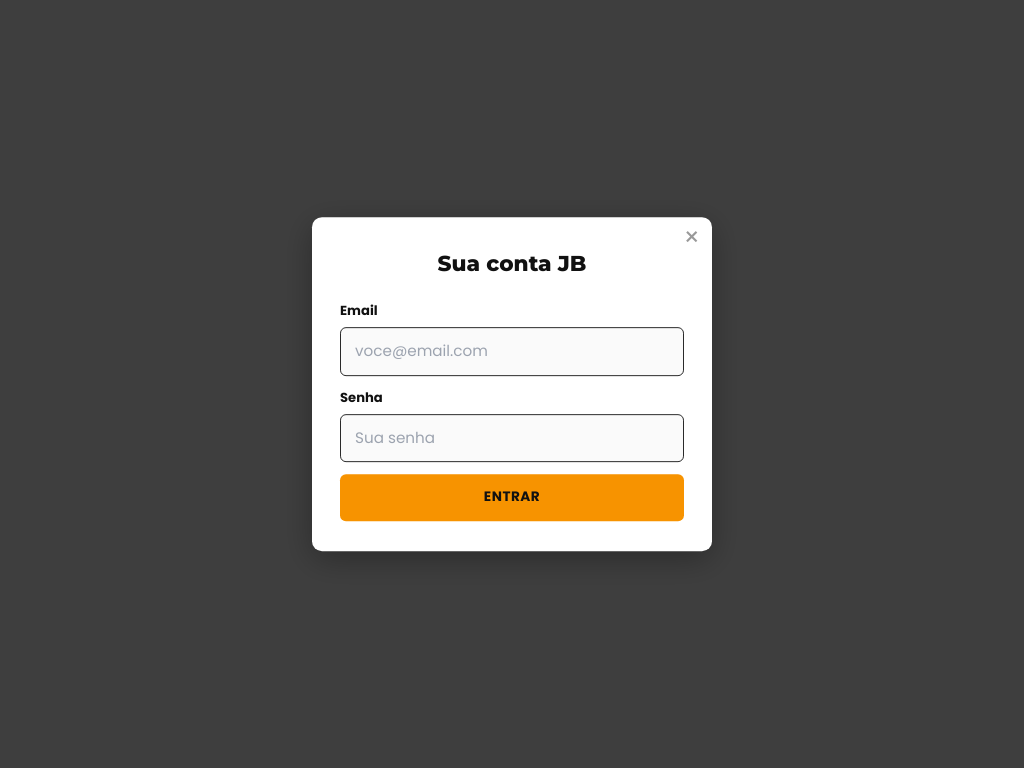
Test: Tela: Login do cliente (Supabase) › é apenas login: mostra erro do Supabase com senha errada
In the field labelled "Email": (512, 352) [340,327,684,376], type "a@b.com"
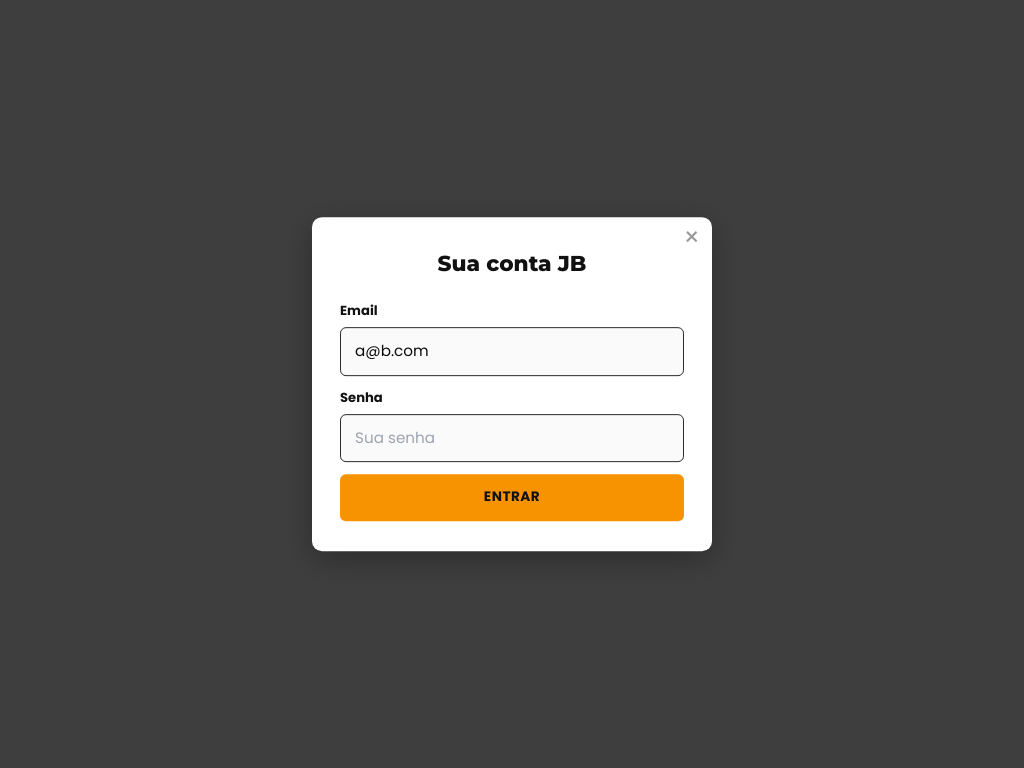
In the password field labelled "Senha": (512, 438) [340,414,684,462], type "errada"
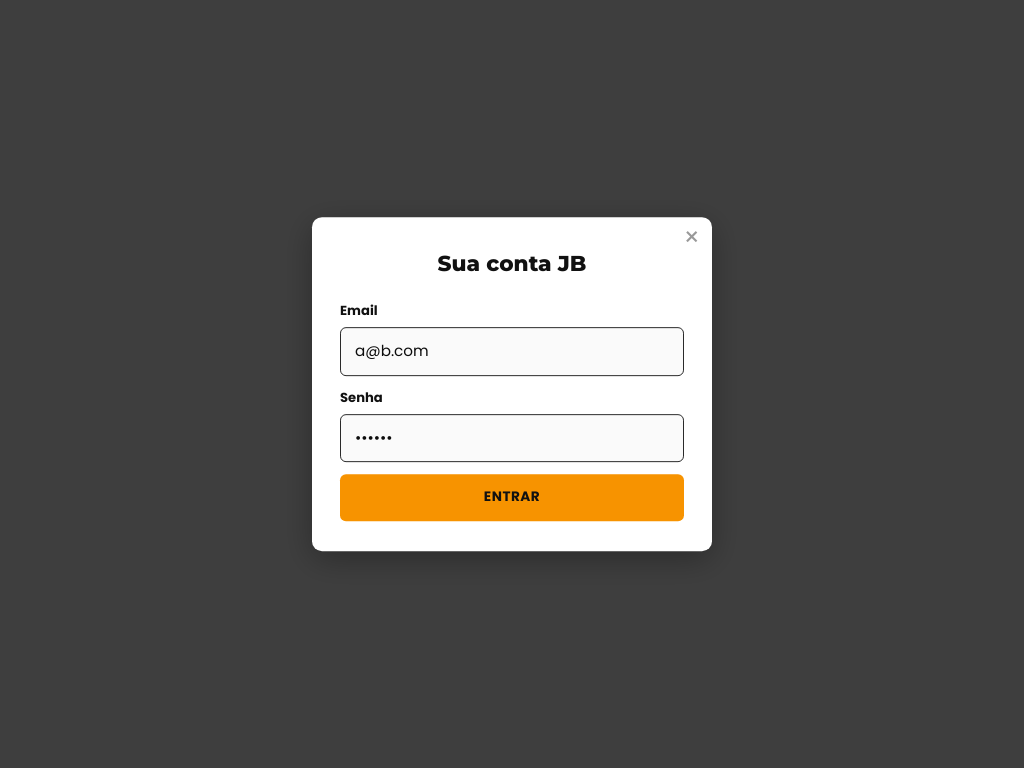
Click the button "Entrar": (512, 498) [340,474,684,521]
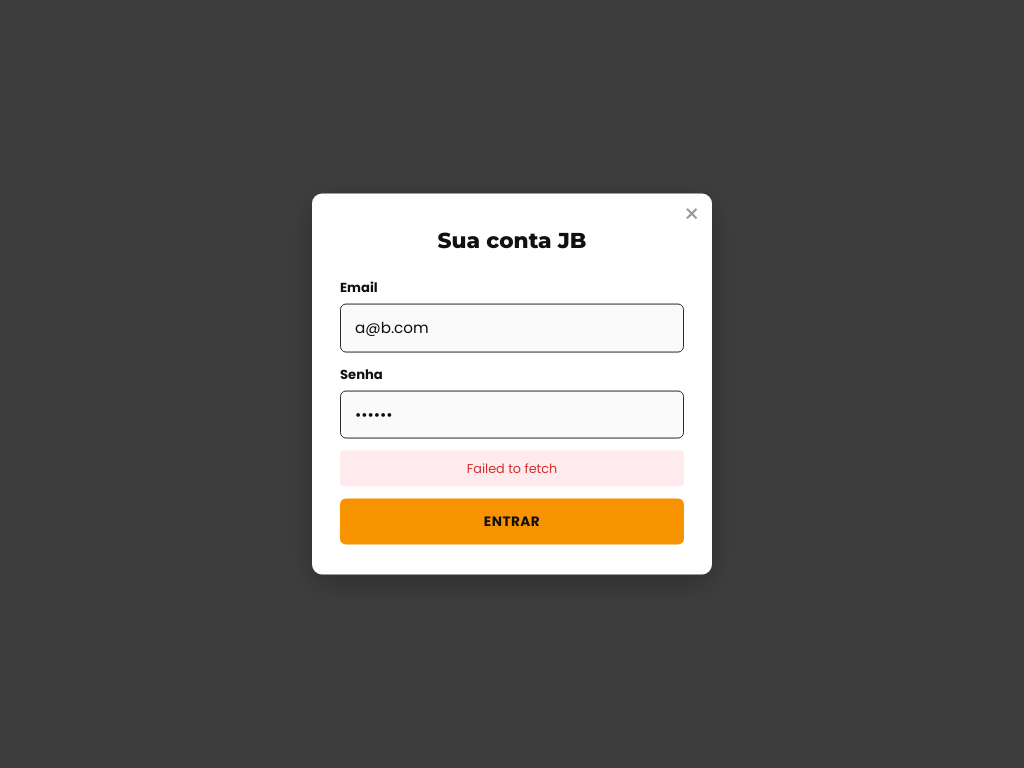
Expected: the message is shown, [340,451,684,486]
